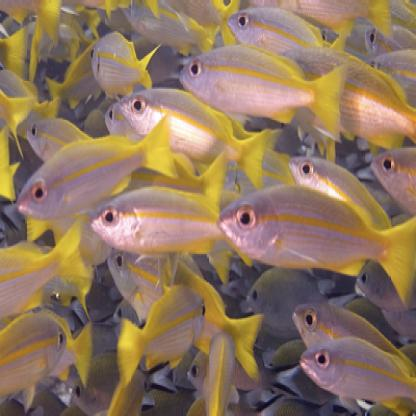snapper: (215, 184, 413, 307), (179, 37, 348, 143), (17, 115, 183, 221), (121, 85, 266, 187), (299, 328, 416, 414), (113, 285, 207, 392), (227, 4, 338, 87), (93, 187, 229, 251), (1, 311, 71, 401), (85, 27, 163, 93)
